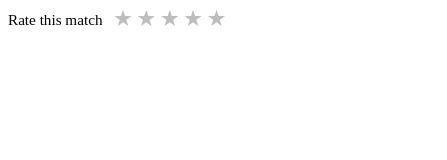
Test case: RateMatchWidget › shows an inline error and stays interactive on a generic failure
This screenshot has width=447, height=160.
Click the radio button named "4 stars": (200,19) [194,8,205,30]
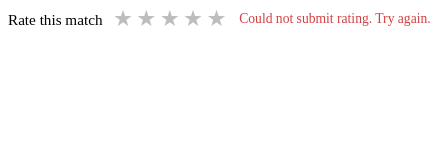
Now the text "Could not submit rating. Try again." is shown, box [239,12,431,26]
